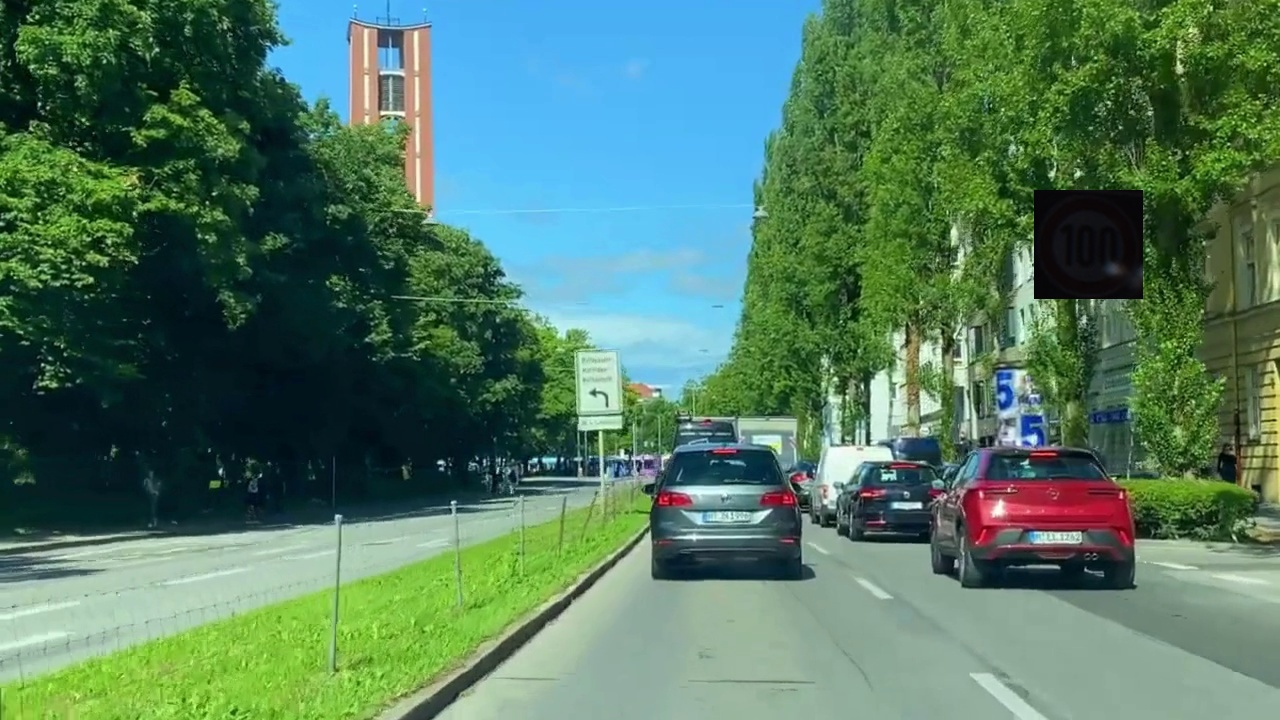Speed 100: (1034, 190, 1143, 299)
